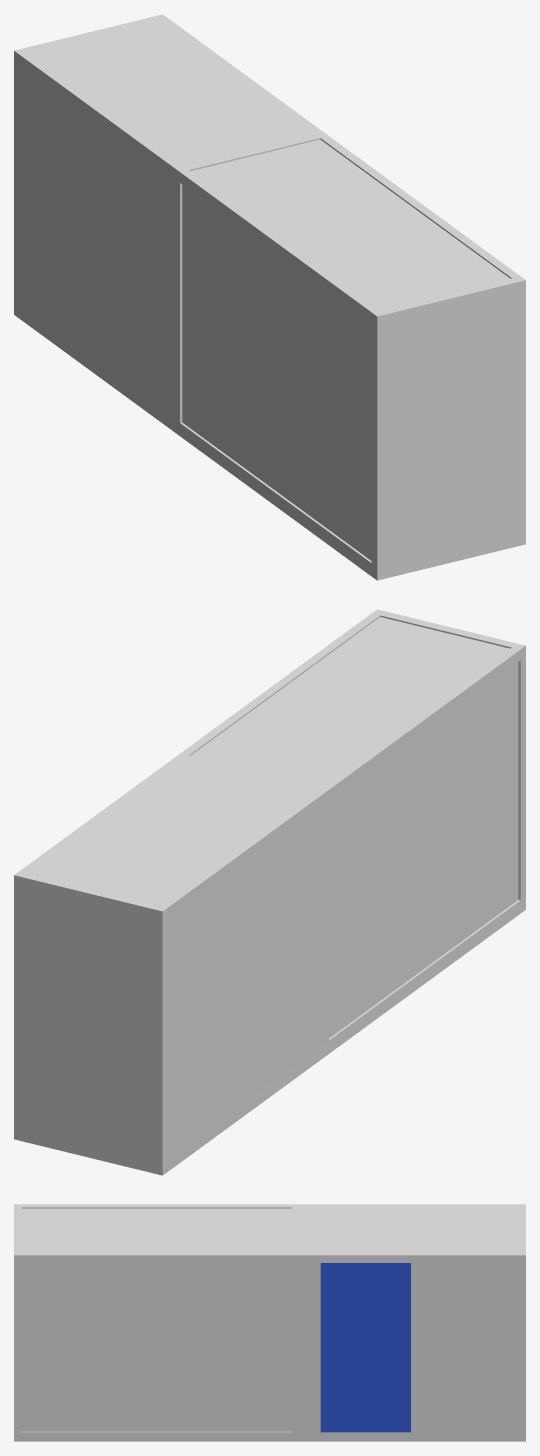
File: Crafting Machine 2.fbx
The picture shows the model from 3 angles, top to bottom: view 1: azimuth 30°, elevation 25°; view 2: azimuth 150°, elevation 25°; view 3: azimuth 270°, elevation 25°; orthographic projection. The views are drawn at different scales.
Parts seen in each view (by area): view 1: Actual Machine.001, Cube.009, Cube.006; view 2: Actual Machine.001, Cube.009, Cube.006; view 3: Actual Machine.001, Cube.007, Cube.006.
Boxes of the visible parts, bbox=[...] form: Actual Machine.001: bbox=[14, 14, 525, 580]; Cube.009: bbox=[182, 185, 371, 560]; Cube.006: bbox=[190, 139, 509, 310]; Actual Machine.001: bbox=[14, 609, 525, 1175]; Cube.009: bbox=[329, 662, 518, 1037]; Cube.006: bbox=[191, 617, 509, 787]; Actual Machine.001: bbox=[14, 1204, 525, 1441]; Cube.007: bbox=[21, 1263, 291, 1431]; Cube.006: bbox=[21, 1208, 291, 1252].
Bounding box in the file's own units: 331 × 562 × 1400.
